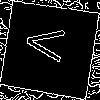V: (24, 24, 75, 64)
